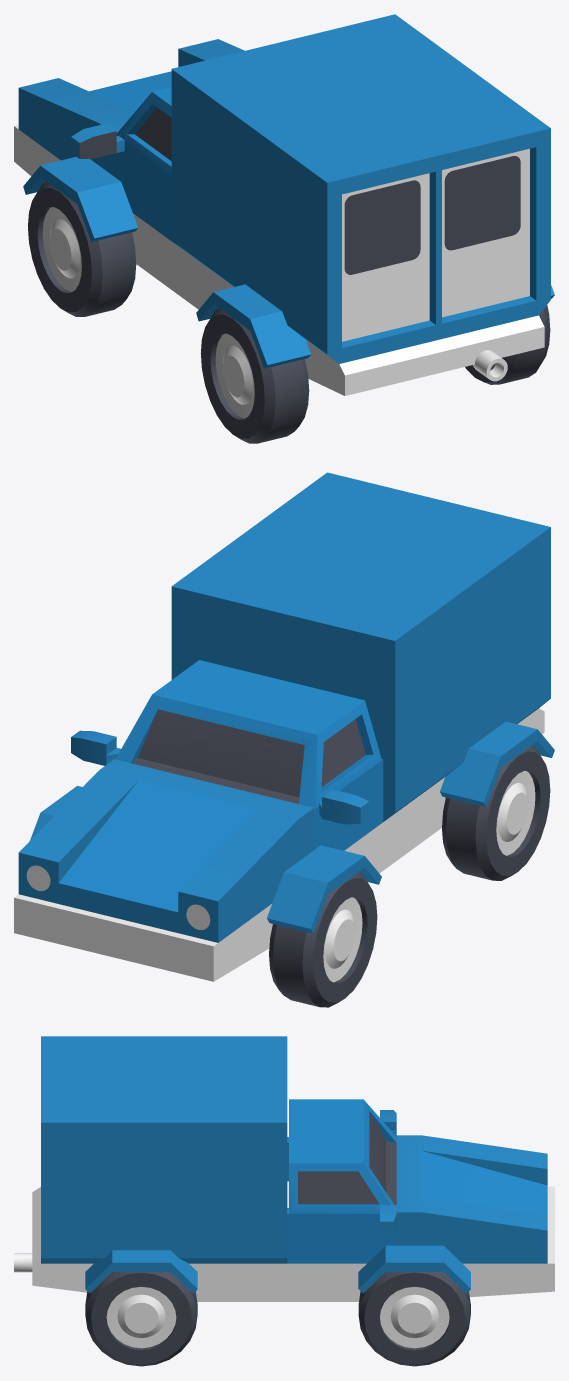
File: Traffic Van Blue.fbx
The picture shows the model from 3 angles, top to bottom: view 1: azimuth 30°, elevation 25°; view 2: azimuth 150°, elevation 25°; view 3: azimuth 270°, elevation 25°; orthographic projection. The views are drawn at different scales.
Parts seen in each view (by area): view 1: trunk_truck_177, windshield_truck_178, wheel_small_182, wheel_small_180, hood_square_147, detail_fenderSquare_179, detail_fenderSquare_181, wheel_small_164, detail_mirror_155, detail_exhaust_168; view 2: trunk_truck_177, hood_square_147, windshield_truck_178, wheel_small_180, wheel_small_182, detail_fenderSquare_179, detail_fenderSquare_181, detail_mirror_155, detail_mirror_156; view 3: trunk_truck_177, hood_square_147, windshield_truck_178, wheel_small_164, wheel_small_166, detail_fenderSquare_165, detail_fenderSquare_163, detail_mirror_156.
Part boxes in pixels (bbox=[...]): trunk_truck_177: bbox=[171, 14, 550, 395]; windshield_truck_178: bbox=[114, 87, 229, 309]; wheel_small_182: bbox=[200, 308, 309, 443]; wheel_small_180: bbox=[28, 181, 136, 316]; hood_square_147: bbox=[14, 39, 244, 176]; detail_fenderSquare_179: bbox=[23, 156, 138, 241]; detail_fenderSquare_181: bbox=[196, 284, 311, 368]; wheel_small_164: bbox=[465, 305, 550, 384]; detail_mirror_155: bbox=[71, 123, 124, 158]; detail_exhaust_168: bbox=[472, 350, 507, 381]; trunk_truck_177: bbox=[171, 472, 550, 870]; hood_square_147: bbox=[14, 759, 313, 981]; windshield_truck_178: bbox=[115, 660, 429, 873]; wheel_small_180: bbox=[269, 872, 377, 1007]; wheel_small_182: bbox=[442, 745, 550, 880]; detail_fenderSquare_179: bbox=[267, 845, 381, 933]; detail_fenderSquare_181: bbox=[440, 721, 554, 806]; detail_mirror_155: bbox=[319, 789, 369, 824]; detail_mirror_156: bbox=[71, 730, 120, 765]; trunk_truck_177: bbox=[32, 1036, 287, 1301]; hood_square_147: bbox=[396, 1135, 554, 1296]; windshield_truck_178: bbox=[214, 1099, 396, 1301]; wheel_small_164: bbox=[85, 1272, 197, 1366]; wheel_small_166: bbox=[358, 1272, 470, 1366]; detail_fenderSquare_165: bbox=[358, 1245, 470, 1293]; detail_fenderSquare_163: bbox=[85, 1250, 197, 1293]; detail_mirror_156: bbox=[380, 1205, 396, 1234].
Size of the model in its own units: 14.5 by 14.22 by 29.7.
